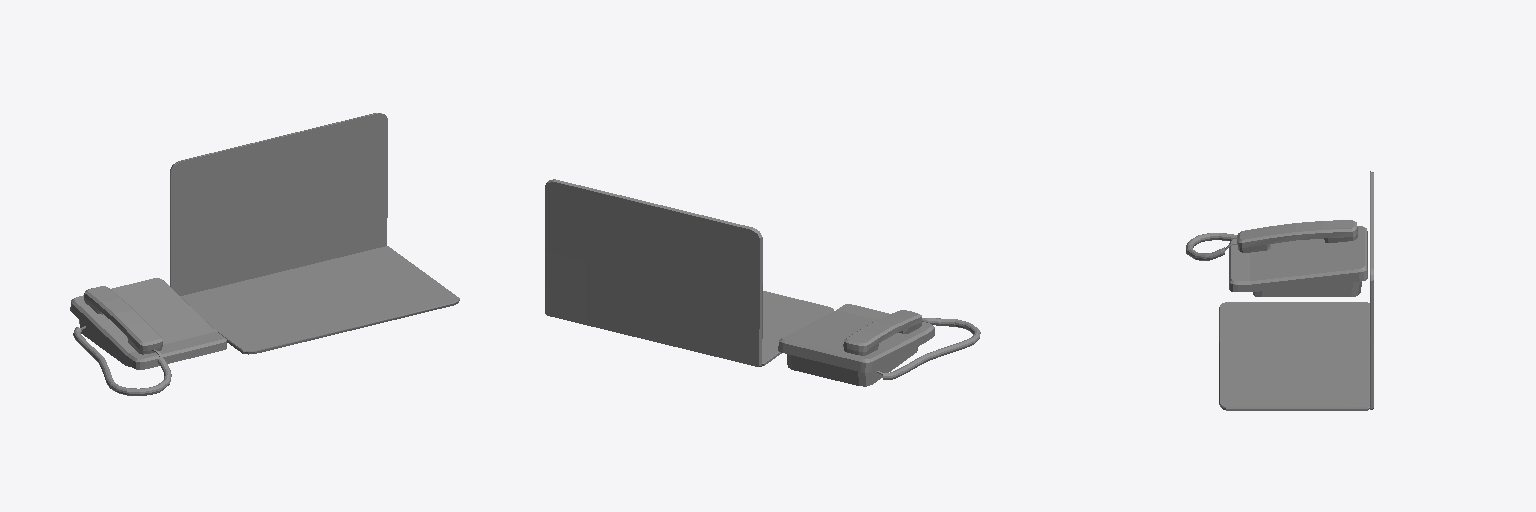
Rendered from Office_equipment.obj.
3 renders of one model, left to right at view 1: azimuth 30°, elevation 25°; view 2: azimuth 150°, elevation 25°; view 3: azimuth 270°, elevation 25°, orthographic.
Parts seen in each view (by area): view 1: Mesh_0140, Mesh_0134, Mesh_0103; view 2: Mesh_0103, Mesh_0134, Mesh_0140; view 3: Mesh_0140, Mesh_0134, Mesh_0103.
Boxes of the visible parts, box(x1,y1,x2,y2) form: Mesh_0140: box(175, 116, 454, 349); Mesh_0134: box(70, 278, 226, 395); Mesh_0103: box(170, 113, 459, 354); Mesh_0103: box(545, 179, 833, 366); Mesh_0134: box(778, 304, 980, 386); Mesh_0140: box(546, 252, 829, 354); Mesh_0140: box(1221, 304, 1349, 403); Mesh_0134: box(1186, 220, 1367, 296); Mesh_0103: box(1219, 171, 1373, 410).
Bounding box in the file's own units: 188 × 69.89 × 86.75.